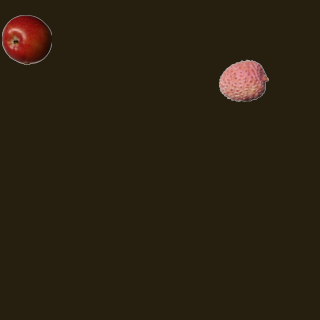Apple Braeburn: (1, 14, 51, 64)
Lychee: (218, 55, 268, 105)
